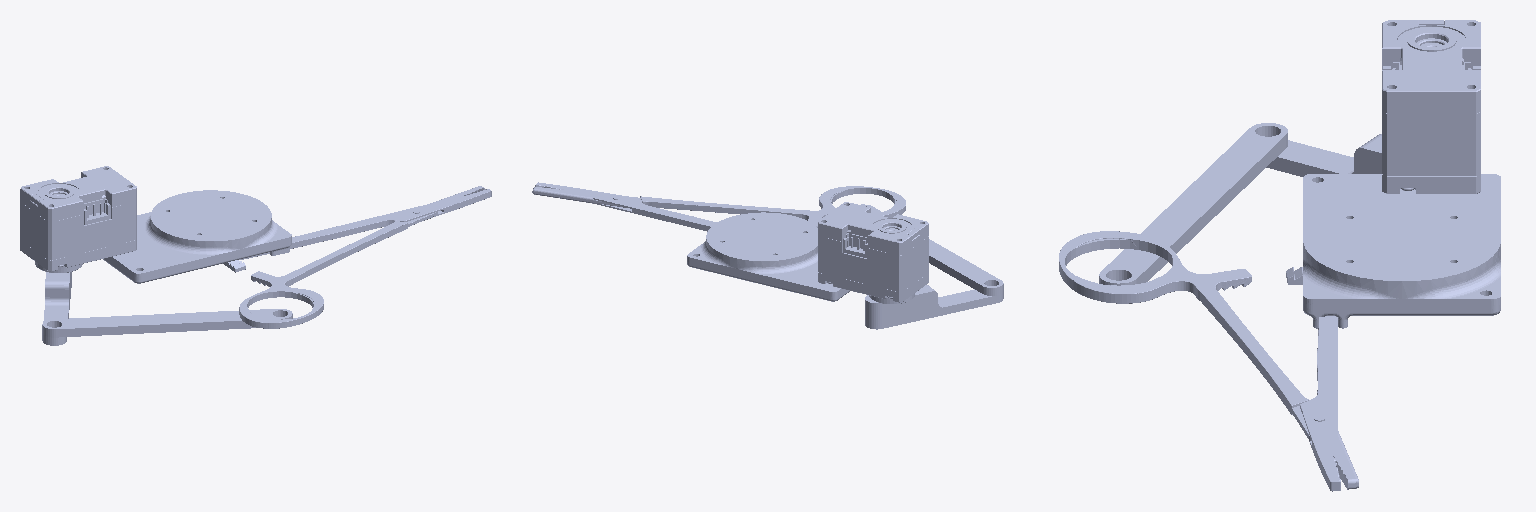
robot.urdf — surgenoid_needle_holder:
<?xml version="1.0"?>
<robot name="surgenoid_needle_holder">
  <link name="SURGERY_CLAMP_ASSY_1">
    <!-- sw2robot inertia="hull" -->
    <visual>
      <origin xyz="0 0 0" rpy="0 0 0" />
      <geometry>
        <mesh filename="package://detachable_tools/meshes/surgenoid_needle_holder/SURGERY_CLAMP_ASSY_1.dae" />
      </geometry>
    </visual>
    <collision>
      <origin xyz="0 0 0" rpy="0 0 0" />
      <geometry>
        <mesh filename="package://detachable_tools/meshes/surgenoid_needle_holder/SURGERY_CLAMP_ASSY_1.stl" />
      </geometry>
    </collision>
    <inertial>
      <origin xyz="-0.004059165 0.0026714 -0.000173157" rpy="0 0 0" />
      <mass value="0.00675555" />
      <inertia ixx="4.67905e-07" ixy="9.59811e-07" ixz="1.28892e-08" iyy="6.25673e-06" iyz="-3.42424e-09" izz="6.71611e-06" />
    </inertial>
  </link>
  <link name="SURGERY_CLAMP_01_1">
    <!-- sw2robot inertia="hull" -->
    <visual>
      <origin xyz="0 0 0" rpy="0 0 0" />
      <geometry>
        <mesh filename="package://detachable_tools/meshes/surgenoid_needle_holder/SURGERY_CLAMP_01_1.dae" />
      </geometry>
    </visual>
    <collision>
      <origin xyz="0 0 0" rpy="0 0 0" />
      <geometry>
        <mesh filename="package://detachable_tools/meshes/surgenoid_needle_holder/SURGERY_CLAMP_01_1.stl" />
      </geometry>
    </collision>
    <inertial>
      <origin xyz="0.042705769 0.022098692 -0.0013036672" rpy="0 0 0" />
      <mass value="0.00562524" />
      <inertia ixx="1.16073e-06" ixy="-1.91324e-06" ixz="-4.08357e-10" iyy="4.55448e-06" iyz="4.80985e-10" izz="5.71081e-06" />
    </inertial>
  </link>
  <link name="XL_XC_330_1">
    <!-- sw2robot inertia="hull" -->
    <visual>
      <origin xyz="0 0 0" rpy="0 0 0" />
      <geometry>
        <mesh filename="package://detachable_tools/meshes/surgenoid_needle_holder/XL_XC_330_1.dae" />
      </geometry>
    </visual>
    <collision>
      <origin xyz="0 0 0" rpy="0 0 0" />
      <geometry>
        <mesh filename="package://detachable_tools/meshes/surgenoid_needle_holder/XL_XC_330_1.stl" />
      </geometry>
    </collision>
    <inertial>
      <origin xyz="7.9738e-05 -0.000522082 0.000156526" rpy="0 0 0" />
      <mass value="0.0168532" />
      <inertia ixx="2.45858e-06" ixy="-2.3451e-14" ixz="4.47712e-14" iyy="1.4262e-06" iyz="-4.7932e-08" izz="2.13119e-06" />
    </inertial>
  </link>
  <link name="base_link">
    <!-- sw2robot inertia="hull" -->
    <visual>
      <origin xyz="0 0 0" rpy="0 0 0" />
      <geometry>
        <mesh filename="package://detachable_tools/meshes/surgenoid_needle_holder/screwlock_male_hard_v2_1.dae" />
      </geometry>
    </visual>
    <collision>
      <origin xyz="0 0 0" rpy="0 0 0" />
      <geometry>
        <mesh filename="package://detachable_tools/meshes/surgenoid_needle_holder/screwlock_male_hard_v2_1.stl" />
      </geometry>
    </collision>
    <inertial>
      <origin xyz="1.4366722e-05 -0.00010691039 -0.0024040291" rpy="0 0 0" />
      <mass value="0.0162824" />
      <inertia ixx="1.61417e-06" ixy="3.47268e-09" ixz="-7.7713e-10" iyy="1.62572e-06" iyz="-1.41976e-09" izz="2.52267e-06" />
    </inertial>
  </link>
  <link name="small_needle_hoder_base_1">
    <!-- sw2robot inertia="hull" -->
    <visual>
      <origin xyz="0 0 0" rpy="0 0 0" />
      <geometry>
        <mesh filename="package://detachable_tools/meshes/surgenoid_needle_holder/small_needle_hoder_base_1.dae" />
      </geometry>
    </visual>
    <collision>
      <origin xyz="0 0 0" rpy="0 0 0" />
      <geometry>
        <mesh filename="package://detachable_tools/meshes/surgenoid_needle_holder/small_needle_hoder_base_1.stl" />
      </geometry>
    </collision>
    <inertial>
      <origin xyz="-0.00120503 0.0003059 -0.000101532" rpy="0 0 0" />
      <mass value="0.020773" />
      <inertia ixx="2.68109e-06" ixy="8.34229e-08" ixz="7.87172e-08" iyy="5.53461e-06" iyz="4.19901e-08" izz="7.91237e-06" />
    </inertial>
  </link>
  <link name="small_needle_holder_link1_1">
    <!-- sw2robot inertia="hull" -->
    <visual>
      <origin xyz="0 0 0" rpy="0 0 0" />
      <geometry>
        <mesh filename="package://detachable_tools/meshes/surgenoid_needle_holder/small_needle_holder_link1_1.dae" />
      </geometry>
    </visual>
    <collision>
      <origin xyz="0 0 0" rpy="0 0 0" />
      <geometry>
        <mesh filename="package://detachable_tools/meshes/surgenoid_needle_holder/small_needle_holder_link1_1.stl" />
      </geometry>
    </collision>
    <inertial>
      <origin xyz="0.0067603411 0.010742293 -0.0056220958" rpy="0 0 0" />
      <mass value="0.00332751" />
      <inertia ixx="4.67896e-07" ixy="-2.67743e-07" ixz="2.00383e-08" iyy="2.10944e-07" iyz="3.18413e-08" izz="6.2836e-07" />
    </inertial>
  </link>
  <link name="small_needle_holder_link2_1">
    <!-- sw2robot inertia="hull" -->
    <visual>
      <origin xyz="0 0 0" rpy="0 0 0" />
      <geometry>
        <mesh filename="package://detachable_tools/meshes/surgenoid_needle_holder/small_needle_holder_link2_1.dae" />
      </geometry>
    </visual>
    <collision>
      <origin xyz="0 0 0" rpy="0 0 0" />
      <geometry>
        <mesh filename="package://detachable_tools/meshes/surgenoid_needle_holder/small_needle_holder_link2_1.stl" />
      </geometry>
    </collision>
    <inertial>
      <origin xyz="-0.034350012 0.015044146 0.0115" rpy="0 0 0" />
      <mass value="0.00195003" />
      <inertia ixx="1.82933e-07" ixy="3.91066e-07" ixz="-1.45386e-22" iyy="9.04573e-07" iyz="6.36835e-23" izz="1.08458e-06" />
    </inertial>
  </link>
  <joint name="small_needle_hoder_base_1__XL_XC_330_1" type="fixed">
    <origin xyz="0.038688034 -0.006248738 0.011774486" rpy="-3.141592607 0 1.5707963" />
    <parent link="small_needle_hoder_base_1" />
    <child link="XL_XC_330_1" />
    <axis xyz="0 0 -1" />
    <!-- mates: COINCIDENT, CONCENTRIC, CONCENTRIC, COINCIDENT, CONCENTRIC, CONCENTRIC -->
  </joint>
  <joint name="small_needle_hoder_base_1__SURGERY_CLAMP_ASSY_1" type="fixed">
    <origin xyz="-0.037277901 0.011289345 -0.004030915" rpy="0 0 -3.0922928" />
    <parent link="small_needle_hoder_base_1" />
    <child link="SURGERY_CLAMP_ASSY_1" />
    <axis xyz="0 0 -1" />
    <!-- mates: COINCIDENT, COINCIDENT, DISTANCE, COINCIDENT, COINCIDENT, DISTANCE -->
  </joint>
  <joint name="screwlock_male_hard_v2_1__small_needle_hoder_base_1" type="fixed">
    <origin xyz="-0.009065668 -0.000168333 -0.015571405" rpy="-6.327e-06 -2.654e-06 3.141589" />
    <parent link="base_link" />
    <child link="small_needle_hoder_base_1" />
    <axis xyz="0 0 1" />
    <!-- mates: COINCIDENT, CONCENTRIC, PARALLEL, COINCIDENT, CONCENTRIC, PARALLEL -->
  </joint>
  <joint name="SURGERY_CLAMP_ASSY_1__SURGERY_CLAMP_01_1" type="revolute">
    <origin xyz="0.040124645 -0.00714826 0.001320943" rpy="0 0 3.0922928" />
    <parent link="SURGERY_CLAMP_ASSY_1" />
    <child link="SURGERY_CLAMP_01_1" />
    <axis xyz="0 0 -1" />
    <limit lower="-0.29662" upper="0.44772" effort="10" velocity="3.14" />
    <mimic joint="XL_XC_330_1__small_needle_holder_link1_1" multiplier="0.581031" offset="0" />
    <!-- mates: CONCENTRIC, COINCIDENT, CONCENTRIC, COINCIDENT -->
  </joint>
  <joint name="XL_XC_330_1__small_needle_holder_link1_1" type="revolute">
    <origin xyz="7.9738e-05 0.006746875 0.013703058" rpy="-3.141592607 0 1.5707963" />
    <parent link="XL_XC_330_1" />
    <child link="small_needle_holder_link1_1" />
    <axis xyz="0 0 -1" />
    <limit lower="-0.62832" upper="0.62832" effort="10" velocity="3.14" />
    <!-- mates: COINCIDENT, CONCENTRIC, COINCIDENT, CONCENTRIC -->
  </joint>
  <joint name="small_needle_holder_link1_1__small_needle_holder_link2_1" type="revolute">
    <origin xyz="0.020772397 0.033007689 -0.017" rpy="0 -0 0" />
    <parent link="small_needle_holder_link1_1" />
    <child link="small_needle_holder_link2_1" />
    <axis xyz="0 0 1" />
    <limit lower="-0.84903" upper="0.87973" effort="10" velocity="3.14" />
    <mimic joint="XL_XC_330_1__small_needle_holder_link1_1" multiplier="1.35269" offset="0" />
    <!-- mates: CONCENTRIC, COINCIDENT, CONCENTRIC, COINCIDENT -->
  </joint>
</robot>

--- Render facts (derived) ---
Views: 3 orthographic renders of the robot side by side, from view 1: azimuth 30°, elevation 25°; view 2: azimuth 150°, elevation 25°; view 3: azimuth 270°, elevation 25°.
Robot: surgenoid_needle_holder — 7 links, 6 joints (3 revolute, 3 fixed); root link base_link; default pose: all joints at 0.
Visible links, largest first — view 1: small_needle_hoder_base_1, XL_XC_330_1, small_needle_holder_link2_1, SURGERY_CLAMP_01_1, SURGERY_CLAMP_ASSY_1, small_needle_holder_link1_1; view 2: XL_XC_330_1, small_needle_hoder_base_1, SURGERY_CLAMP_01_1, small_needle_holder_link1_1, small_needle_holder_link2_1, SURGERY_CLAMP_ASSY_1; view 3: small_needle_hoder_base_1, XL_XC_330_1, SURGERY_CLAMP_01_1, small_needle_holder_link2_1, SURGERY_CLAMP_ASSY_1, small_needle_holder_link1_1.
Boxes of the visible links, x1,y1,x2,y2 form: small_needle_hoder_base_1: [103, 190, 291, 283]; XL_XC_330_1: [20, 166, 136, 272]; small_needle_holder_link2_1: [42, 309, 292, 337]; SURGERY_CLAMP_01_1: [239, 186, 485, 328]; SURGERY_CLAMP_ASSY_1: [223, 189, 491, 272]; small_needle_holder_link1_1: [42, 272, 71, 345]; XL_XC_330_1: [818, 202, 928, 303]; small_needle_hoder_base_1: [687, 212, 849, 301]; SURGERY_CLAMP_01_1: [532, 186, 905, 227]; small_needle_holder_link1_1: [865, 285, 1003, 329]; small_needle_holder_link2_1: [861, 204, 1003, 295]; SURGERY_CLAMP_ASSY_1: [535, 182, 716, 231]; small_needle_hoder_base_1: [1303, 174, 1500, 328]; XL_XC_330_1: [1382, 20, 1480, 193]; SURGERY_CLAMP_01_1: [1059, 231, 1358, 489]; small_needle_holder_link2_1: [1099, 123, 1287, 285]; SURGERY_CLAMP_ASSY_1: [1286, 267, 1340, 491]; small_needle_holder_link1_1: [1266, 134, 1381, 176].
Size in the robot's own frame: 0.1778 by 0.0893 by 0.036 metres.
Meshes: 7 distinct files referenced, 6 mesh visuals loaded (6 Collada DAE); not drawn: 1 (reference not matched to a file when rendering).
